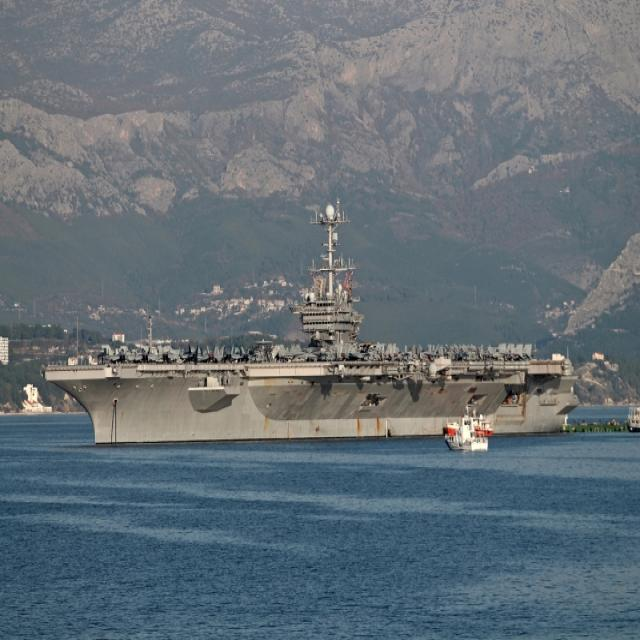Portanaves: (43, 194, 584, 449)
